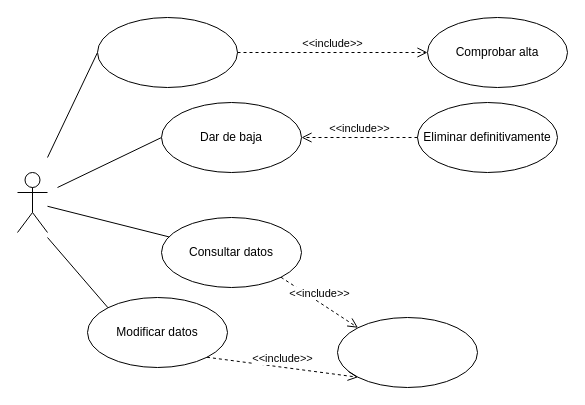
This 585x405 diagram has some shape labels left out. The centre of each missing label's shape, as x and y in pixels:
Actor: pixel 32 202
Dar de alta: pixel 167 52
Localizar detalles: pixel 407 352
